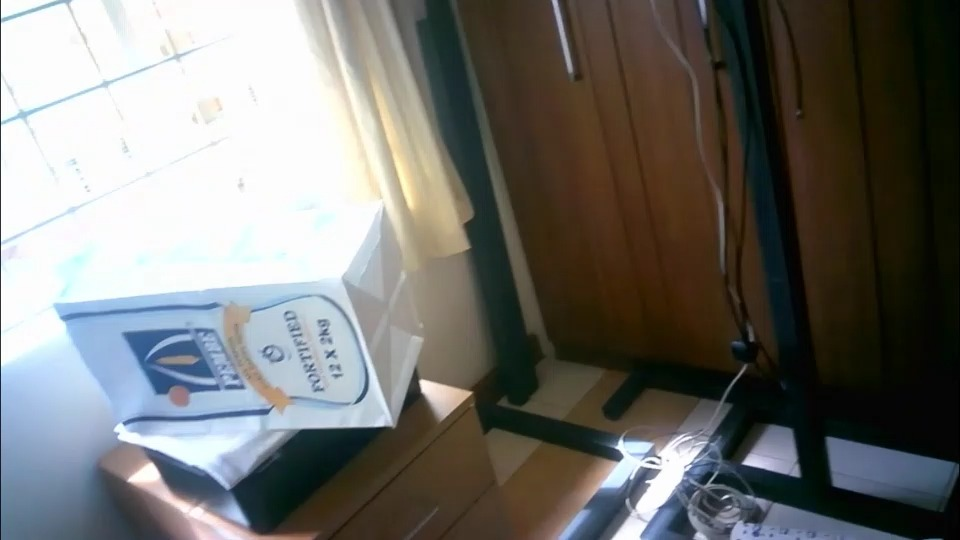wheat_flour_blue_label: (54, 199, 425, 426)
